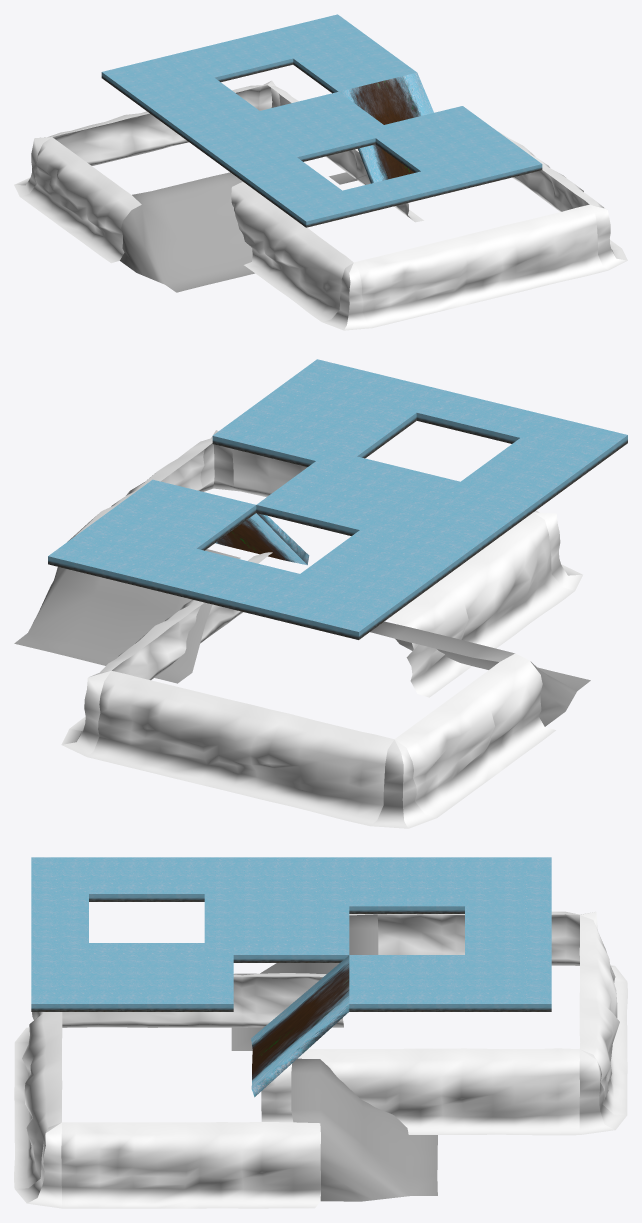
The model's file is Stage_Block_3_3_2F 1.fbx.
3 renders of one model, top to bottom at view 1: azimuth 30°, elevation 25°; view 2: azimuth 150°, elevation 25°; view 3: azimuth 270°, elevation 25°, orthographic. The views are drawn at different scales.
Parts seen in each view (by area): view 1: polySurface179, polySurface97, Winter_Slope03; view 2: polySurface179, polySurface97, Winter_Slope03; view 3: polySurface179, polySurface97, Winter_Slope03.
Boxes of the visible parts, x1=… form: polySurface179: x1=14, y1=80, x2=627, y2=330; polySurface97: x1=101, y1=14, x2=542, y2=227; Winter_Slope03: x1=339, y1=72, x2=433, y2=183; polySurface179: x1=14, y1=430, x2=590, y2=828; polySurface97: x1=48, y1=359, x2=627, y2=639; Winter_Slope03: x1=215, y1=513, x2=309, y2=565; polySurface179: x1=14, y1=911, x2=627, y2=1208; polySurface97: x1=31, y1=857, x2=551, y2=1011; Winter_Slope03: x1=251, y1=955, x2=349, y2=1097.
Bounding box in the file's own units: 4056 × 1130 × 4248.
Materials: 4 (2 with a texture image).
